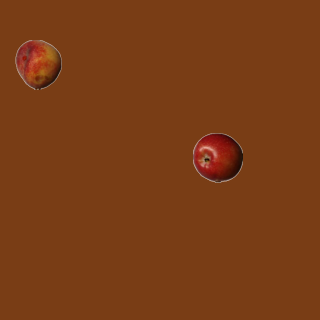Apple Braeburn: (192, 132, 242, 182)
Peach: (13, 39, 63, 89)
